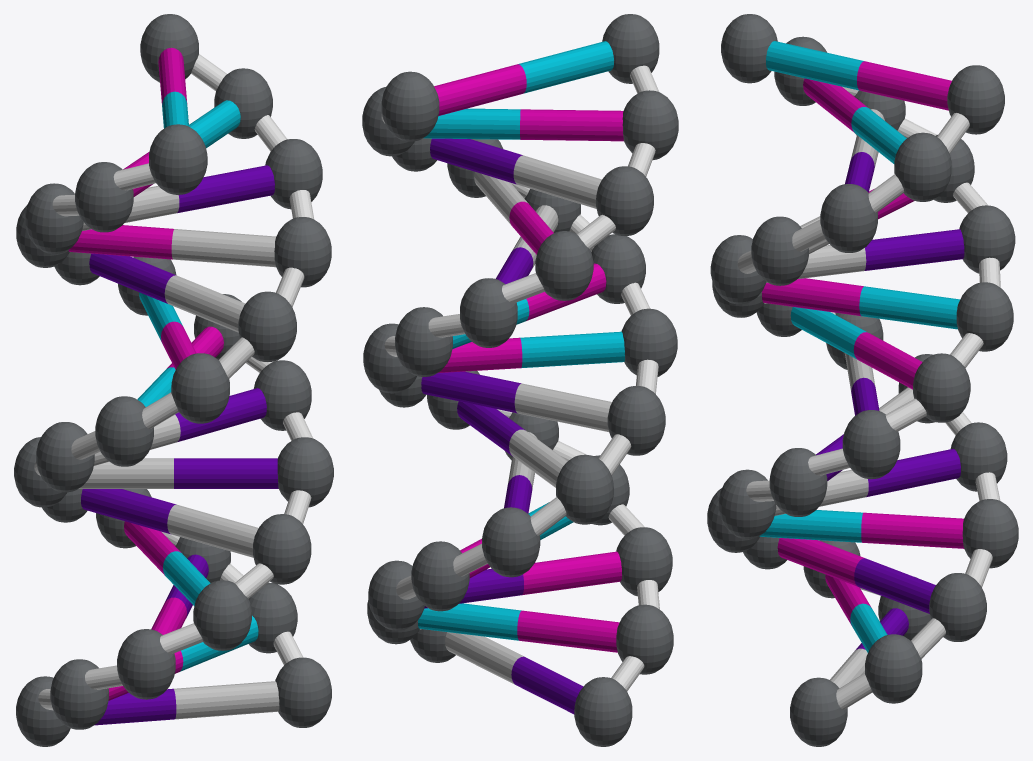
The model's file is DNAmutation2.glb.
The picture shows the model from 3 angles, left to right: view 1: azimuth 30°, elevation 25°; view 2: azimuth 150°, elevation 25°; view 3: azimuth 270°, elevation 25°; orthographic projection.
Visible parts, largest first — view 1: Mesh_Mesh_head_geo.001_lambert2SG.001; view 2: Mesh_Mesh_head_geo.001_lambert2SG.001; view 3: Mesh_Mesh_head_geo.001_lambert2SG.001.
Boxes of the visible parts, <box> form: Mesh_Mesh_head_geo.001_lambert2SG.001: <box>14,14,333,746</box>; Mesh_Mesh_head_geo.001_lambert2SG.001: <box>362,14,678,746</box>; Mesh_Mesh_head_geo.001_lambert2SG.001: <box>707,14,1018,746</box>.
Bounding box in the file's own units: 75.48 × 173 × 74.96.
